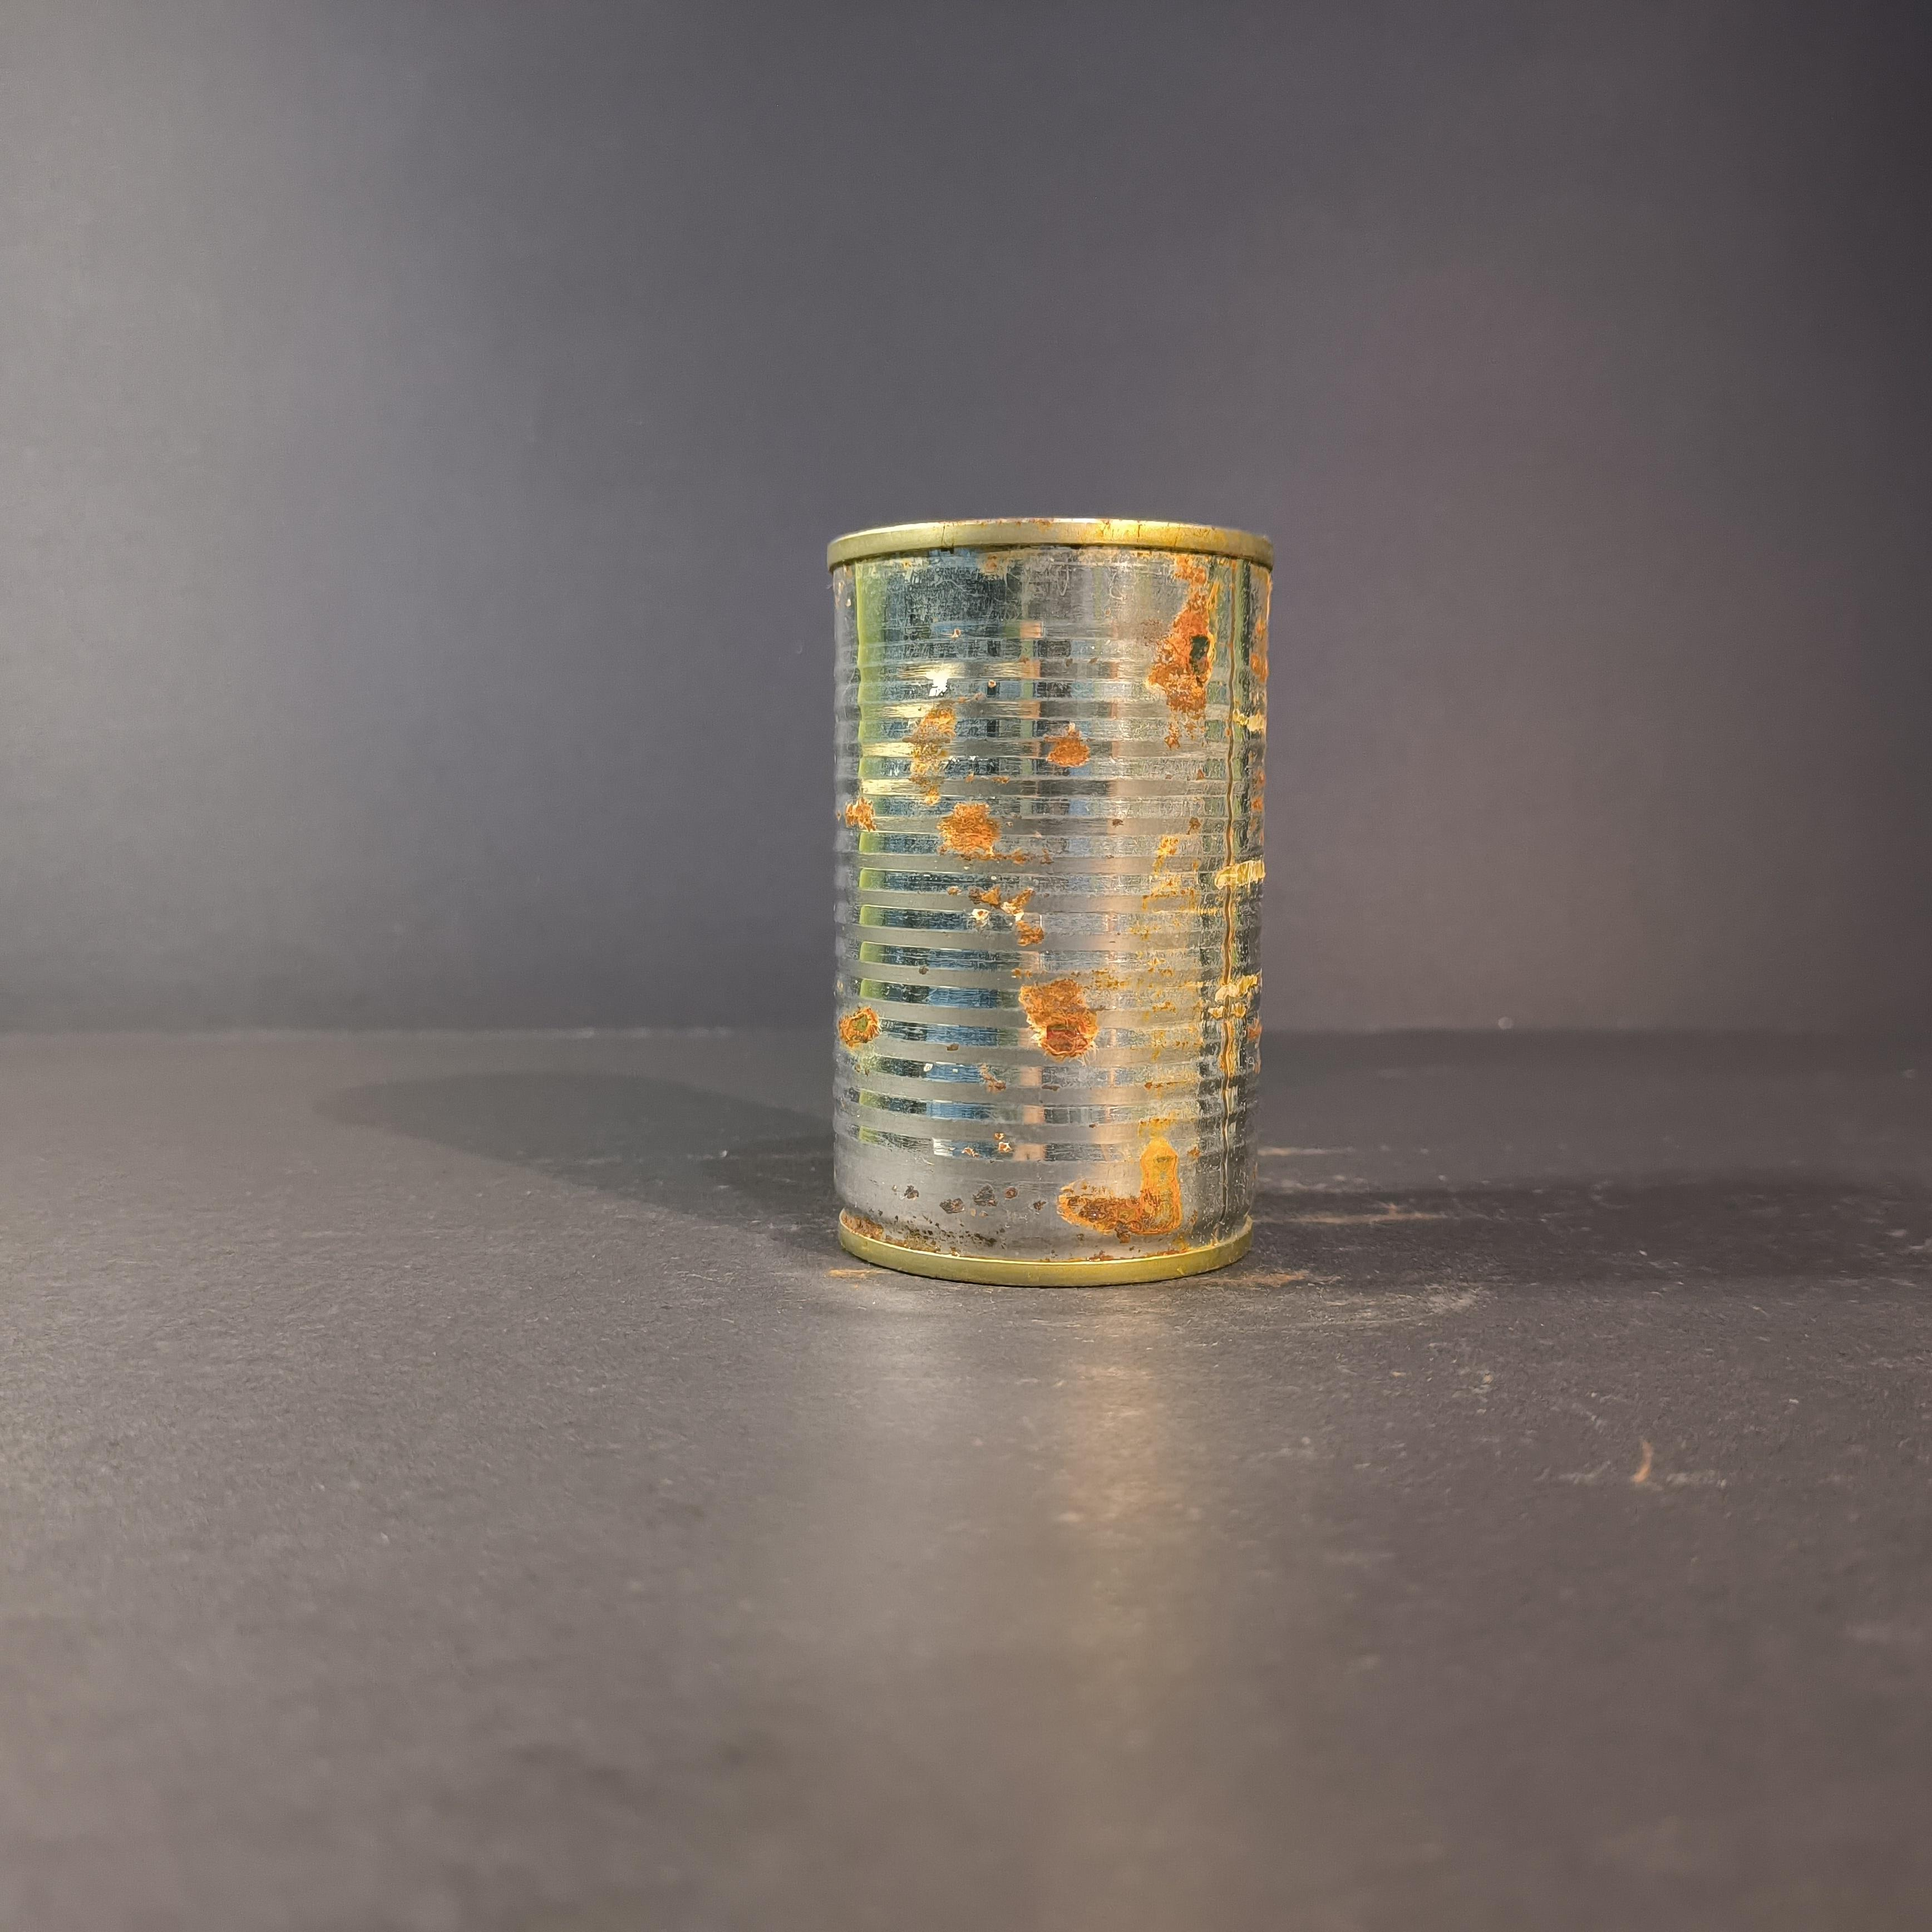Rusted: (796, 487, 1272, 1322)
